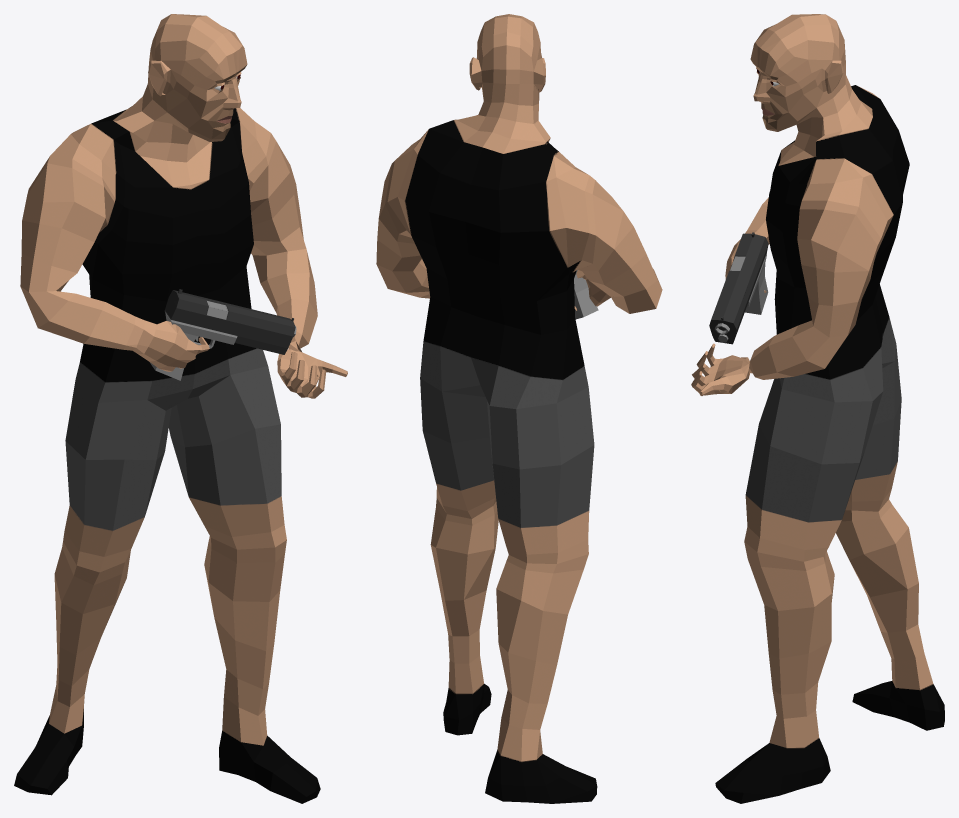
The model's file is PlayerIdle(113).obj.
3 renders of one model, left to right at view 1: azimuth 30°, elevation 25°; view 2: azimuth 150°, elevation 25°; view 3: azimuth 270°, elevation 25°, orthographic. The views are drawn at different scales.
Visible parts, largest first — view 1: Plane002, Box003; view 2: Plane002, Box003; view 3: Plane002, Box003.
Boxes of the visible parts, x1,y1,x2,y2 form: Plane002: [14, 14, 347, 803]; Box003: [149, 289, 296, 380]; Plane002: [376, 14, 662, 803]; Box003: [574, 270, 598, 319]; Plane002: [691, 14, 944, 803]; Box003: [709, 232, 768, 344].
Bounding box in the file's own units: 702 × 1803 × 558.
